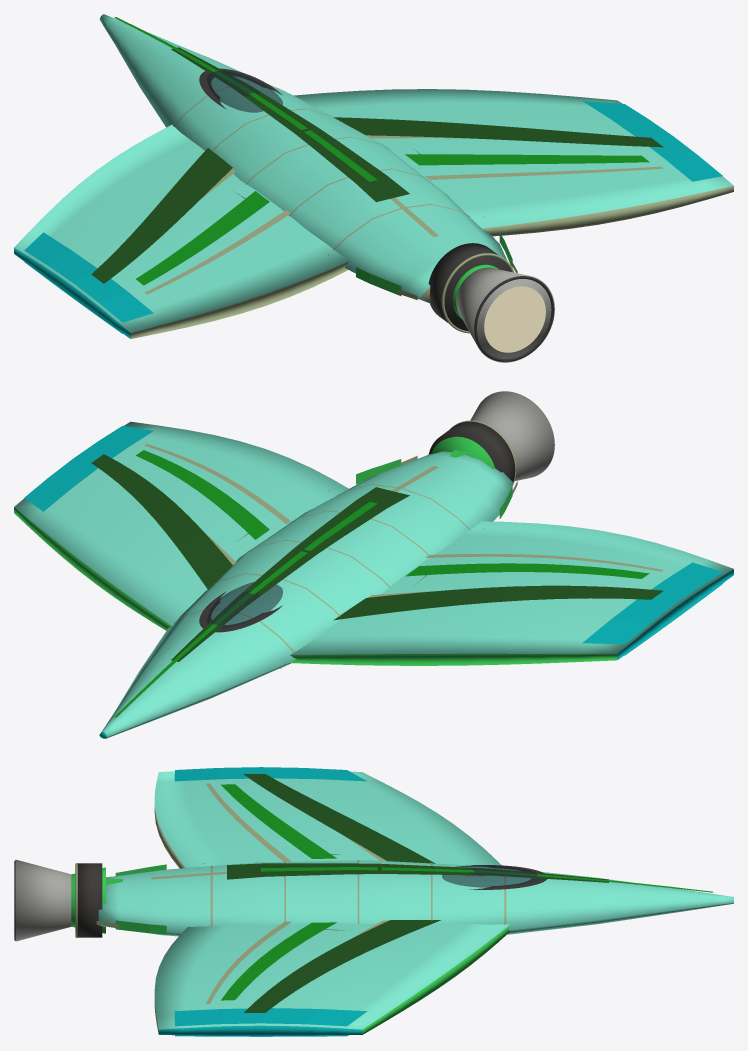
Rendered from Ship_ManraRay_766613.glb.
3 views of the same model, one above another, from view 1: azimuth 30°, elevation 25°; view 2: azimuth 150°, elevation 25°; view 3: azimuth 270°, elevation 25° (orthographic). The views are drawn at different scales.
Visible parts, largest first — view 1: Fuselage_CentralRayHull_FacetedAeroBody, Wing_Left_MantaAerofoil, Wing_Right_MantaAerofoil, PaintWingSweep_Right_PrimaryLongArc_Top, PaintWingSweep_Left_PrimaryLongArc_Top, PaintDorsalSweep_PrimaryMantaArrow, EngineBell_CentralMainRocketNozzle, WingTipTrim_Left_HardCutOuterPlate_Top, EngineEmitter, WingTipTrim_Right_HardCutOuterPlate_Top, EngineMount_AftCentralTailBlock, PaintWingSweep_Right_SecondaryLowerArc_Top (+7 smaller); view 2: Fuselage_CentralRayHull_FacetedAeroBody, Wing_Left_MantaAerofoil, Wing_Right_MantaAerofoil, PaintWingSweep_Left_PrimaryLongArc_Top, PaintWingSweep_Right_PrimaryLongArc_Top, EngineBell_CentralMainRocketNozzle, PaintDorsalSweep_PrimaryMantaArrow, WingTipTrim_Left_HardCutOuterPlate_Top, WingTipTrim_Right_HardCutOuterPlate_Top, PaintWingSweep_Left_SecondaryLowerArc_Top, PaintWingSweep_Right_SecondaryLowerArc_Top, CanopyGlass_LowInsetMantaDome (+6 smaller); view 3: Fuselage_CentralRayHull_FacetedAeroBody, Wing_Right_MantaAerofoil, Wing_Left_MantaAerofoil, EngineBell_CentralMainRocketNozzle, PaintWingSweep_Right_PrimaryLongArc_Top, PaintWingSweep_Left_PrimaryLongArc_Top, PaintDorsalSweep_PrimaryMantaArrow, WingTipTrim_Right_HardCutOuterPlate_Top, WingTipTrim_Left_HardCutOuterPlate_Top, EngineMount_AftCentralTailBlock, PaintWingSweep_Left_SecondaryLowerArc_Top, PaintWingSweep_Right_SecondaryLowerArc_Top (+7 smaller).
Boxes of the visible parts, x1,y1,x2,y2 form: Fuselage_CentralRayHull_FacetedAeroBody: (99,14,507,303); Wing_Left_MantaAerofoil: (14,125,348,338); Wing_Right_MantaAerofoil: (294,89,733,236); PaintWingSweep_Right_PrimaryLongArc_Top: (333,117,663,147); PaintWingSweep_Left_PrimaryLongArc_Top: (91,148,232,283); PaintDorsalSweep_PrimaryMantaArrow: (171,47,409,202); EngineBell_CentralMainRocketNozzle: (456,267,554,362); WingTipTrim_Left_HardCutOuterPlate_Top: (24,232,153,322); EngineEmitter: (484,286,545,352); WingTipTrim_Right_HardCutOuterPlate_Top: (582,101,722,181); EngineMount_AftCentralTailBlock: (428,243,511,331); PaintWingSweep_Right_SecondaryLowerArc_Top: (405,154,649,165); Fuselage_CentralRayHull_FacetedAeroBody: (99,451,513,738); Wing_Left_MantaAerofoil: (289,521,733,665); Wing_Right_MantaAerofoil: (14,421,348,630); PaintWingSweep_Left_PrimaryLongArc_Top: (333,585,663,620); PaintWingSweep_Right_PrimaryLongArc_Top: (91,454,232,589); EngineBell_CentralMainRocketNozzle: (470,391,554,480); PaintDorsalSweep_PrimaryMantaArrow: (171,487,409,661); WingTipTrim_Left_HardCutOuterPlate_Top: (582,562,722,644); WingTipTrim_Right_HardCutOuterPlate_Top: (24,425,153,511); PaintWingSweep_Left_SecondaryLowerArc_Top: (405,563,649,578); PaintWingSweep_Right_SecondaryLowerArc_Top: (136,450,269,539); CanopyGlass_LowInsetMantaDome: (207,582,282,628); Fuselage_CentralRayHull_FacetedAeroBody: (98,860,733,936); Wing_Right_MantaAerofoil: (154,923,510,1035); Wing_Left_MantaAerofoil: (154,771,501,868); EngineBell_CentralMainRocketNozzle: (15,859,71,941); PaintWingSweep_Right_PrimaryLongArc_Top: (244,920,440,1012); PaintWingSweep_Left_PrimaryLongArc_Top: (243,774,435,863); PaintDorsalSweep_PrimaryMantaArrow: (227,863,608,882); WingTipTrim_Right_HardCutOuterPlate_Top: (174,1008,366,1026); WingTipTrim_Left_HardCutOuterPlate_Top: (174,767,366,781); EngineMount_AftCentralTailBlock: (77,863,102,937); PaintWingSweep_Left_SecondaryLowerArc_Top: (221,784,336,858); PaintWingSweep_Right_SecondaryLowerArc_Top: (221,922,336,1000).
Size of the model in its own units: 6.56 by 0.8844 by 7.75.
